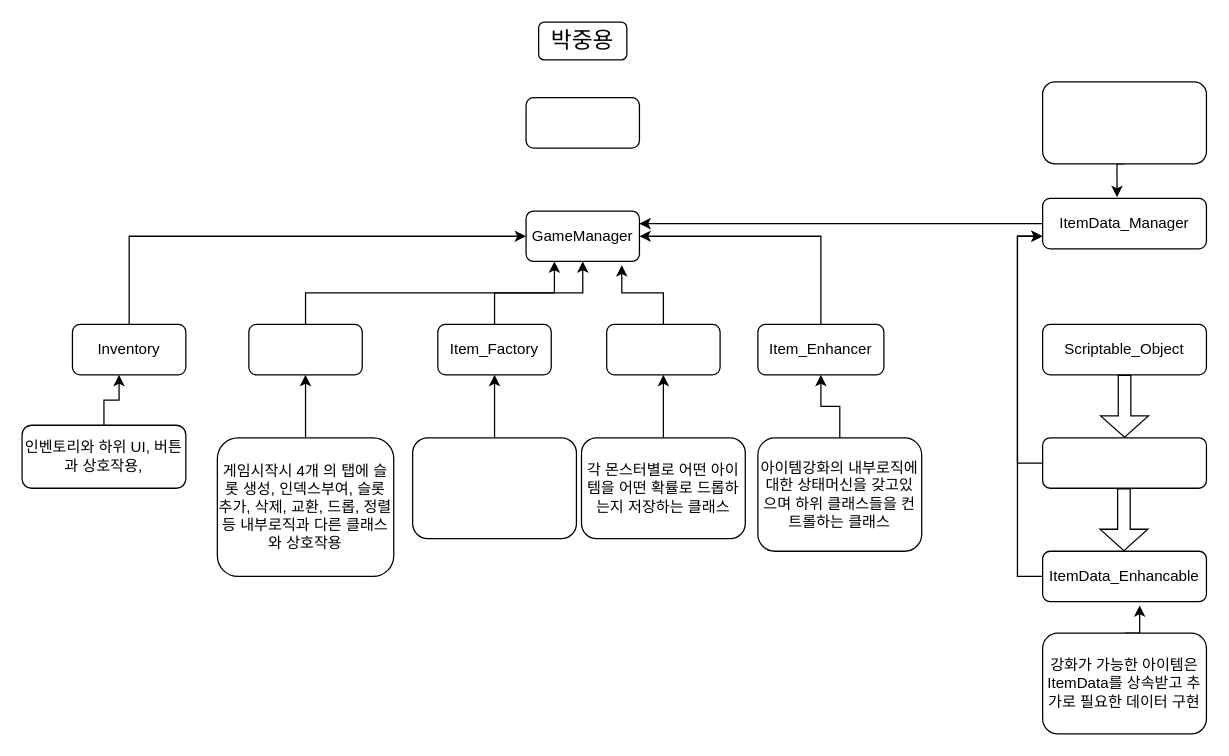
This 1229x756 diagram has some shape labels left out. Each missing label, with the centre of its shape:
Item_DropTable: point (662, 349)
ItemData: point (1123, 462)
ItemData의 배열과 Enum의 데이터 정의: point (1123, 122)
Slot_Manager: point (305, 349)
게임뷰에 보여질 프리팹을 원하는 곳에 생성하는 클래스: point (493, 488)
계층구조 Hierarchy: point (582, 122)
